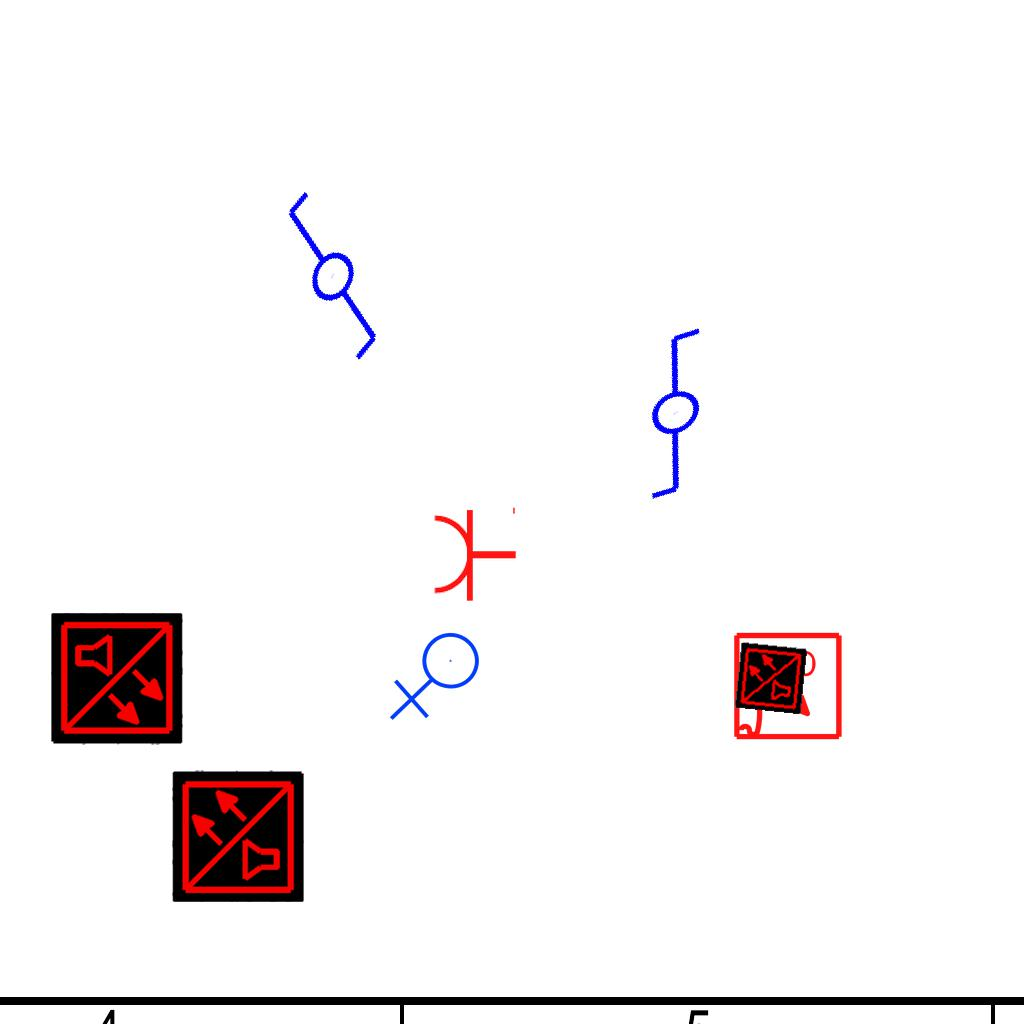Elektroanschluss_allgemein_230V_Geraeteanschlussdose_230V: (389, 631, 488, 725)
OKW_Multisensormelder_(Kombination_optischer_Rauch-Kahlenmonoxid_Waerme-Melder): (51, 613, 183, 745), (172, 770, 304, 902), (734, 641, 808, 715)
ROA_Rauchmelder_optisch_mit_Signalgeber_(Sockelsirene): (732, 631, 845, 744)
Schukosteckdose_einfach: (431, 503, 518, 603)
Wechselschalter: (578, 306, 789, 514), (229, 182, 426, 384)
